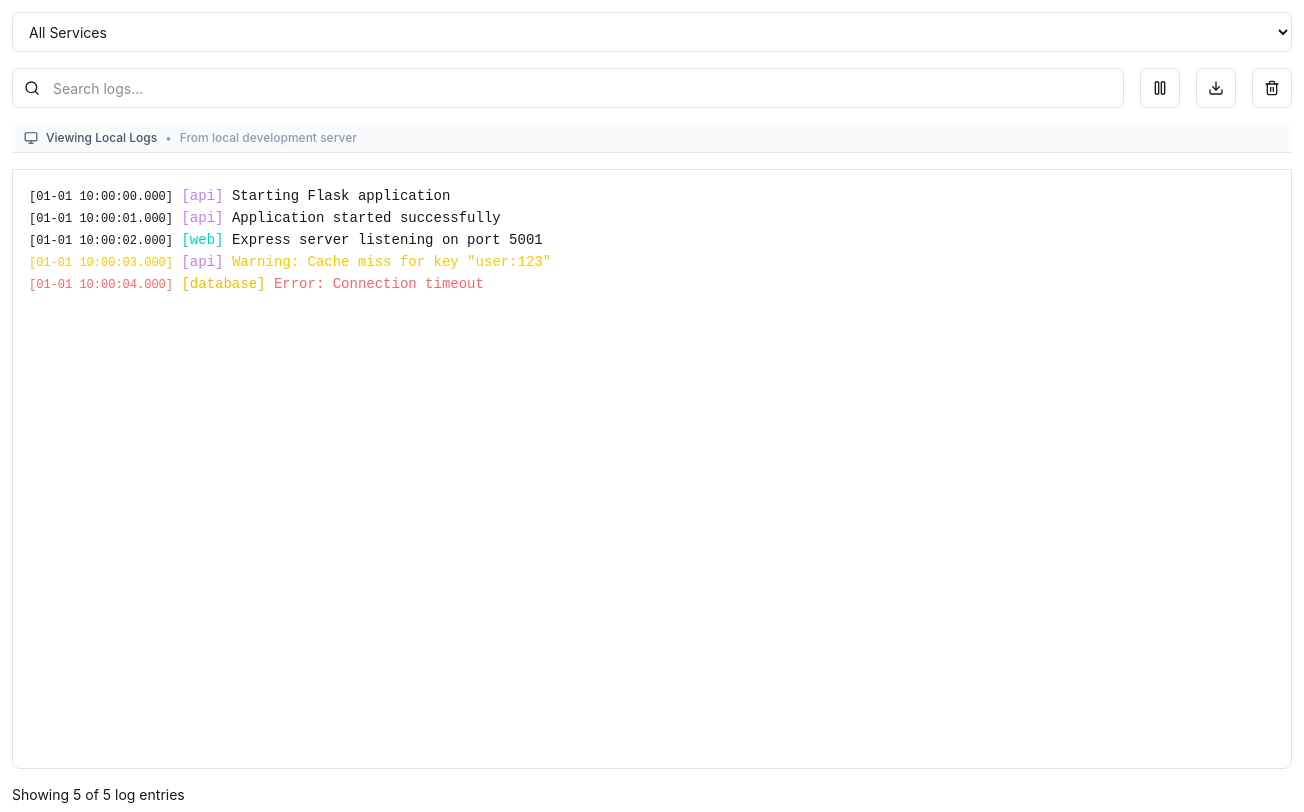
LogsView › should clear logs with confirmation
The image size is (1304, 812).
Expected: the text "Starting Flask application" is shown, x1=232 y1=188 x2=450 y2=204
Click the button titled "Clear logs". click: click(1272, 88)
box: x1=1252 y1=68 x2=1292 y2=108
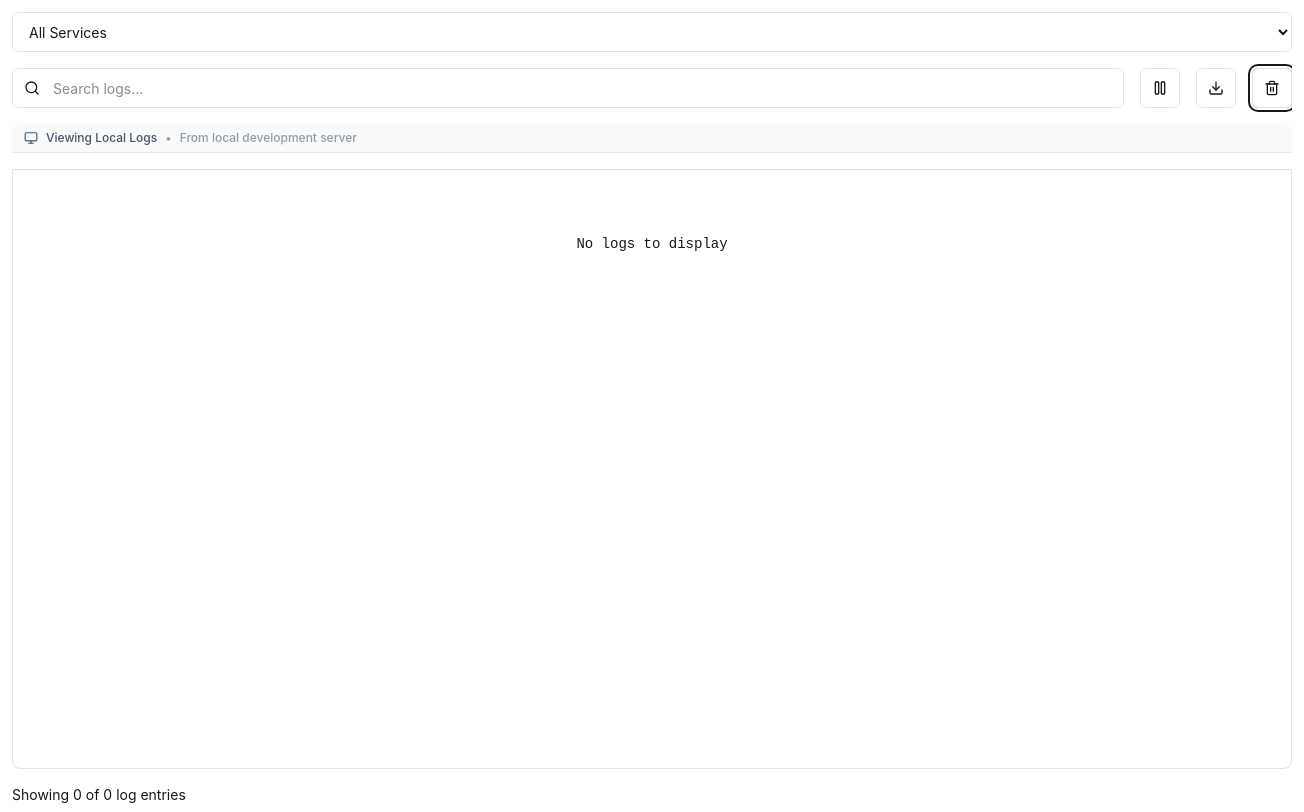
Expected: the text "No logs to display" is shown, x1=576 y1=236 x2=728 y2=252
